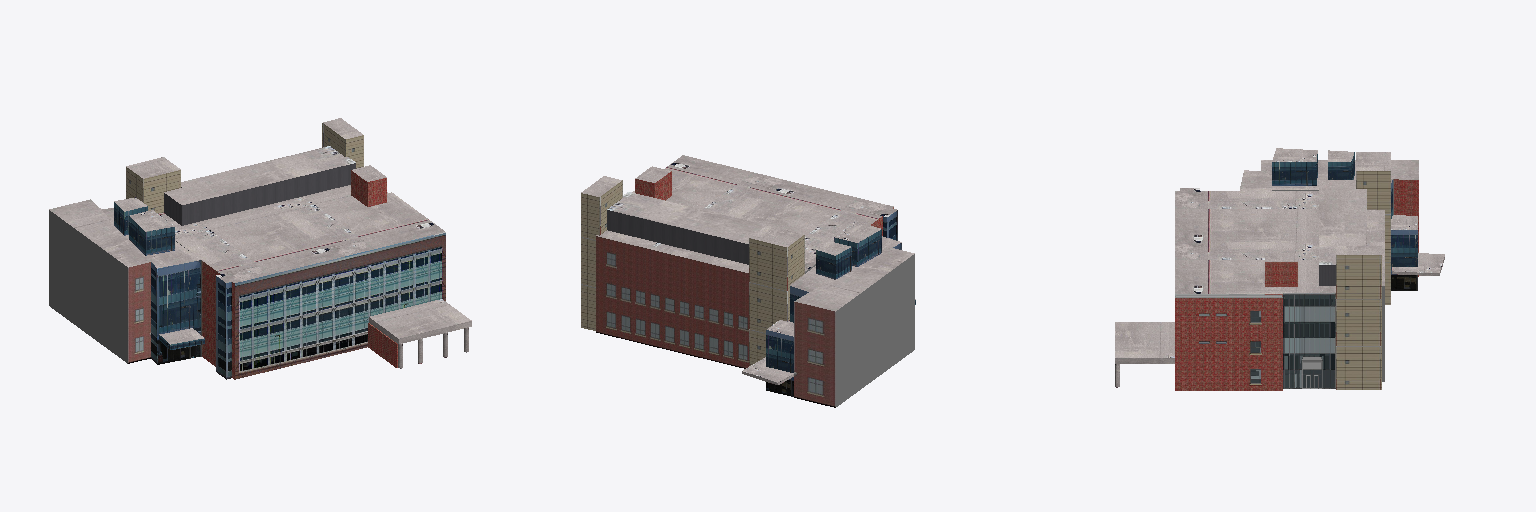
3 views of the same model, side by side, from view 1: azimuth 30°, elevation 25°; view 2: azimuth 150°, elevation 25°; view 3: azimuth 270°, elevation 25° (orthographic).
Parts seen in each view (by area): view 1: Ext2, Ext1, Ext5, ext3, Awning3, Ext4, pent1, Ext006, PEnt3, Box002, Line001, Awning; view 2: Ext2, Ext1, Ext5, Ext4, Ext006, Box001, pent1, Line001, PEnt3, ext3, Awning2; view 3: Ext2, Ext006, Ext5, Awning3, Ext4, Box001, Ext1, pent1, PEnt3, ext3, Line001, Awning2.
Boxes of the visible parts, x1,y1,x2,y2 form: Ext2: [159, 185, 445, 379]; Ext1: [49, 199, 150, 363]; Ext5: [164, 146, 355, 225]; ext3: [102, 208, 200, 364]; Awning3: [369, 299, 471, 343]; Ext4: [126, 157, 180, 213]; pent1: [129, 210, 174, 255]; Ext006: [322, 118, 363, 168]; PEnt3: [351, 165, 386, 206]; Box002: [368, 323, 397, 367]; Line001: [114, 197, 147, 235]; Awning: [159, 328, 204, 349]; Ext2: [596, 155, 897, 368]; Ext1: [794, 248, 914, 407]; Ext5: [607, 192, 775, 264]; Ext4: [749, 226, 804, 365]; Ext006: [581, 176, 622, 330]; Box001: [766, 320, 793, 396]; pent1: [834, 221, 881, 266]; Line001: [816, 241, 851, 279]; PEnt3: [635, 166, 671, 200]; ext3: [790, 236, 901, 322]; Awning2: [742, 357, 793, 384]; Ext2: [1175, 188, 1384, 390]; Ext006: [1336, 246, 1381, 389]; Ext5: [1319, 180, 1366, 285]; Awning3: [1115, 322, 1174, 363]; Ext4: [1356, 152, 1390, 304]; Box001: [1391, 215, 1417, 290]; Ext1: [1261, 160, 1418, 276]; pent1: [1272, 148, 1317, 185]; PEnt3: [1265, 253, 1297, 286]; ext3: [1240, 170, 1392, 218]; Line001: [1328, 150, 1354, 179]; Awning2: [1392, 253, 1444, 275].
Bounding box in the file's own units: 2389 × 1119 × 2488.
Materials: 20 (11 with a texture image).